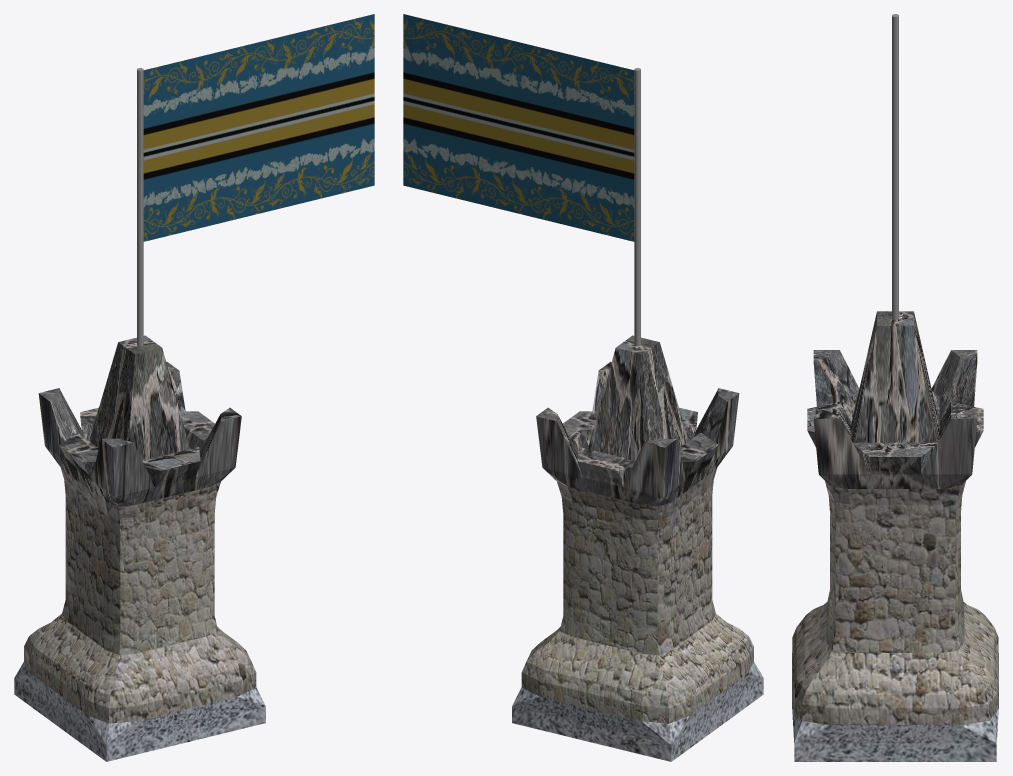
Rendered from BlueTower.FBX.
The picture shows the model from 3 angles, left to right: view 1: azimuth 30°, elevation 25°; view 2: azimuth 150°, elevation 25°; view 3: azimuth 270°, elevation 25°; orthographic projection. The views are drawn at different scales.
Parts seen in each view (by area): view 1: Box001, Box002, Cylinder001; view 2: Box001, Box002, Cylinder001; view 3: Box001, Cylinder001.
Boxes of the visible parts, box(x1,y1,x2,y2) form: Box001: box(14, 335, 265, 761); Box002: box(143, 14, 374, 241); Cylinder001: box(137, 68, 143, 346); Box001: box(512, 335, 763, 761); Box002: box(403, 14, 634, 241); Cylinder001: box(634, 68, 640, 346); Box001: box(792, 311, 998, 761); Cylinder001: box(892, 14, 898, 320).
Bounding box in the file's own units: 13.47 × 26.09 × 6.94.
3 materials, 2 textured.
